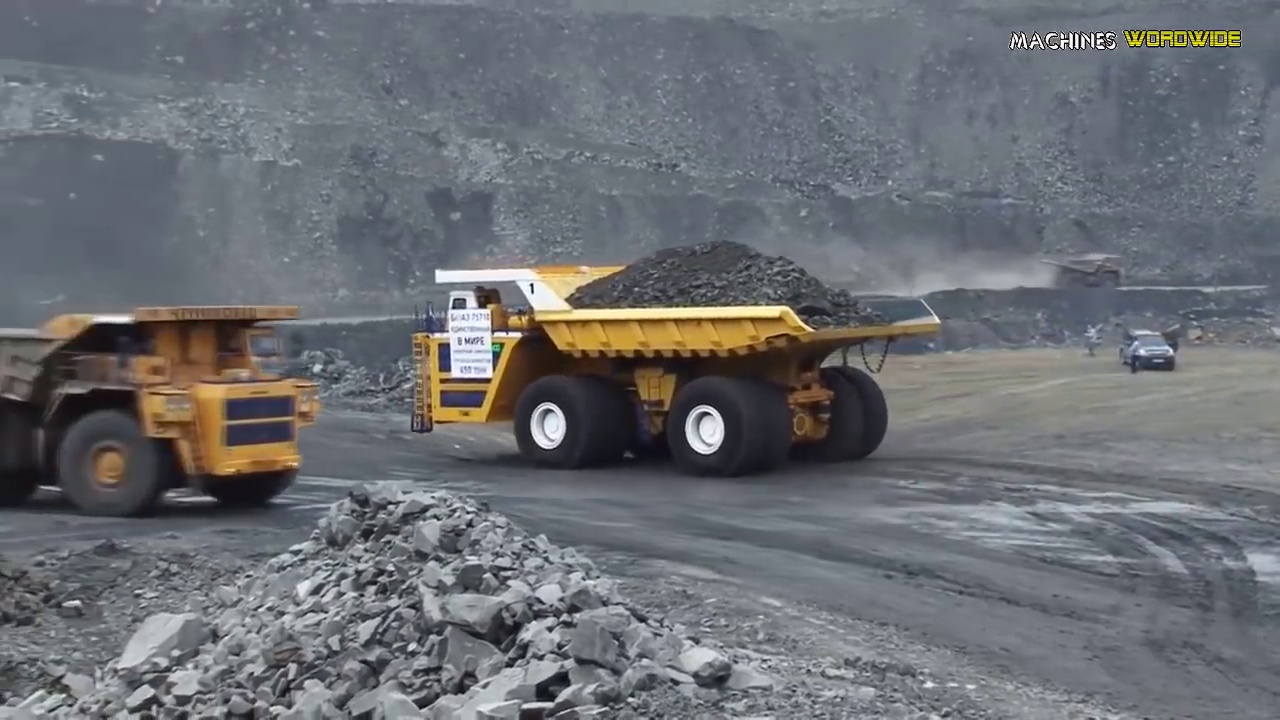car: (1120, 322, 1176, 369)
dumper: (415, 254, 940, 466), (5, 302, 323, 510)
person: (1126, 331, 1142, 366), (1086, 319, 1095, 352)
